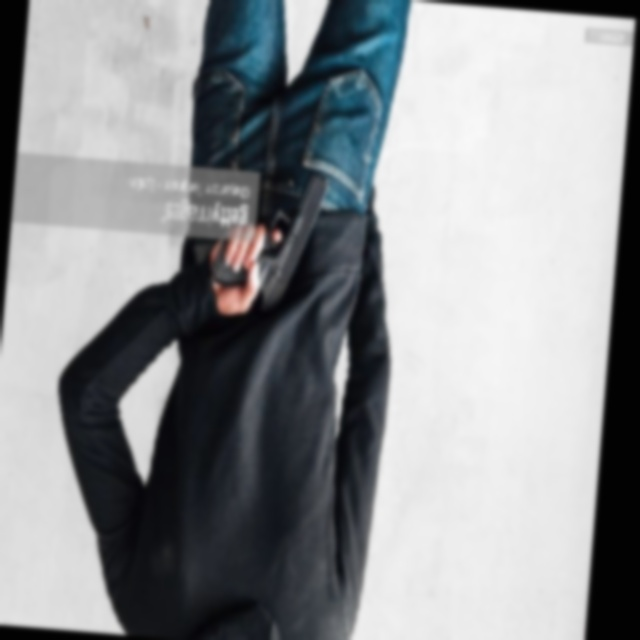gun: (206, 163, 342, 308)
